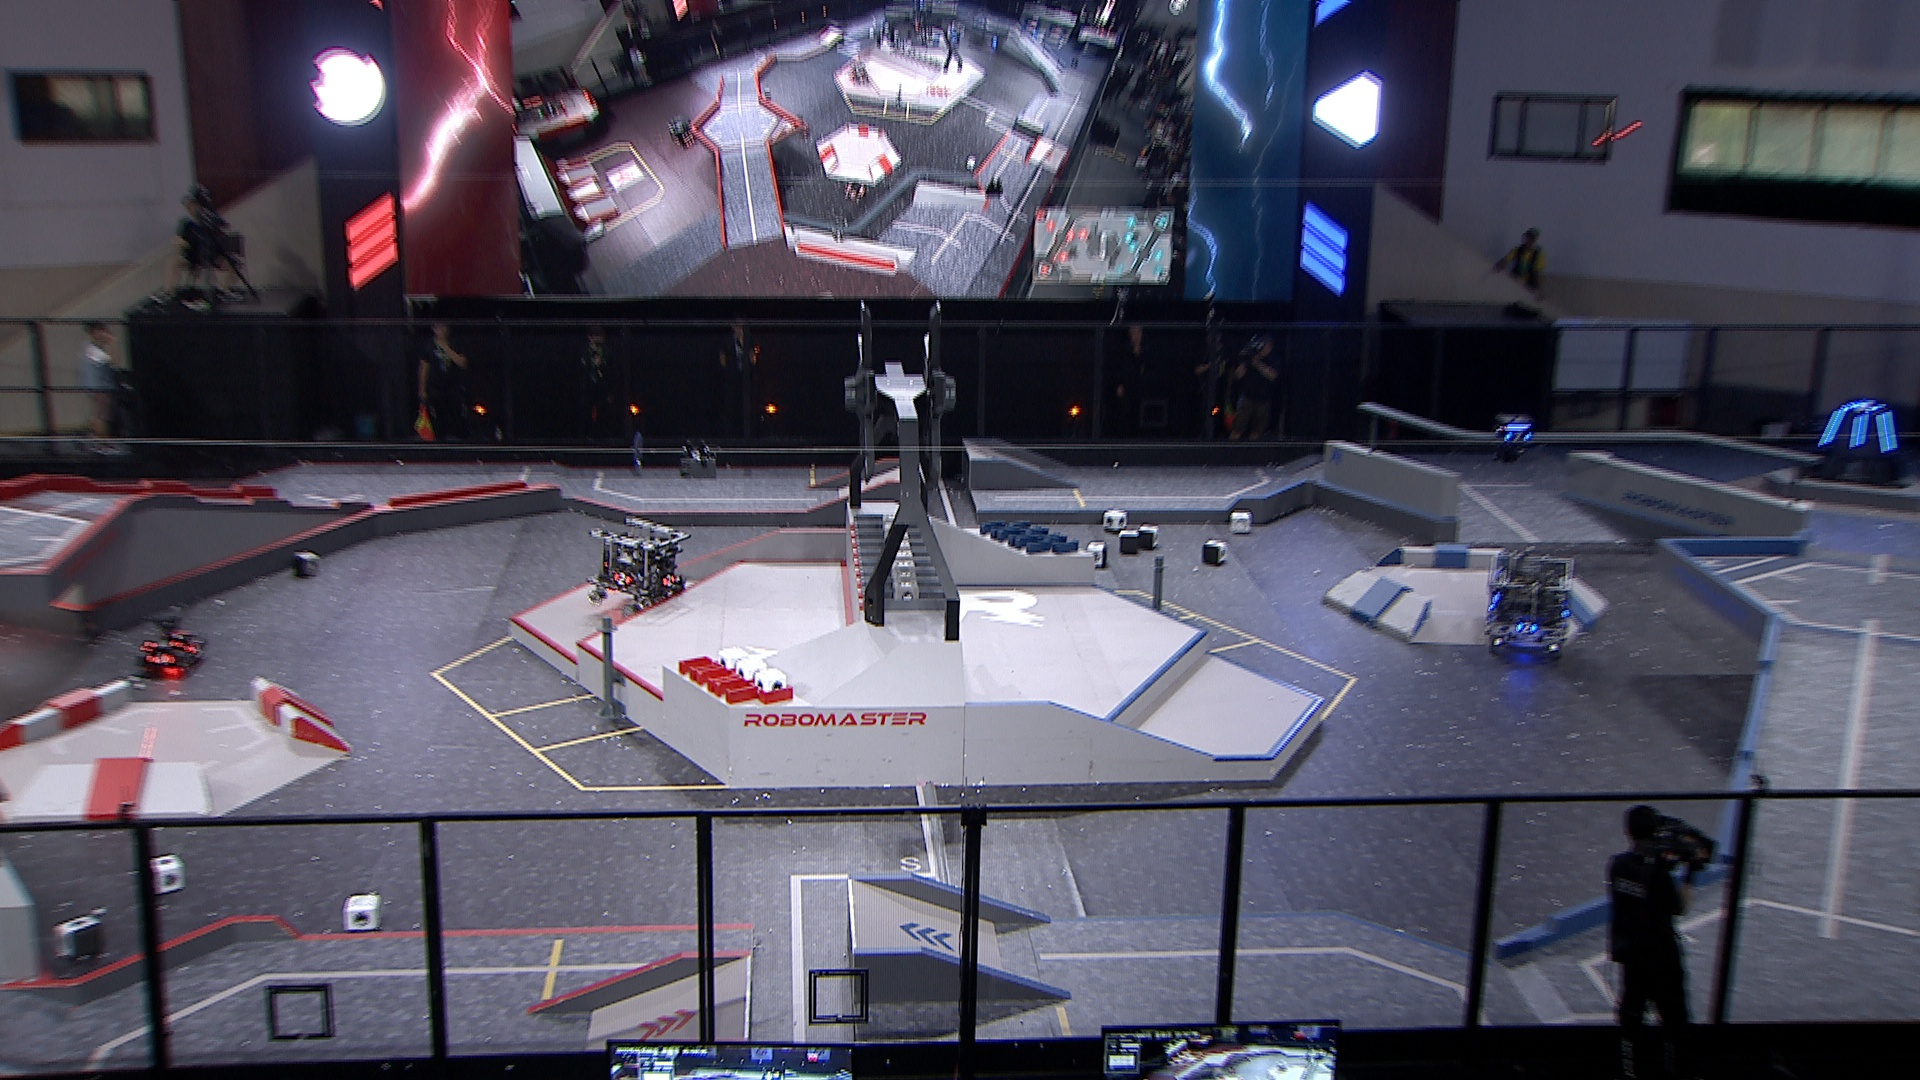armor: (1816, 405, 1847, 448), (1875, 409, 1899, 456), (1845, 411, 1873, 450), (1499, 429, 1534, 447), (145, 647, 174, 669), (1514, 618, 1542, 636), (1845, 401, 1880, 414), (611, 570, 633, 588), (181, 636, 200, 655), (659, 571, 678, 589)
base: (1797, 396, 1917, 493)
car: (1482, 546, 1577, 665), (588, 514, 688, 621), (131, 607, 207, 679)
watcher: (1491, 410, 1539, 465)
